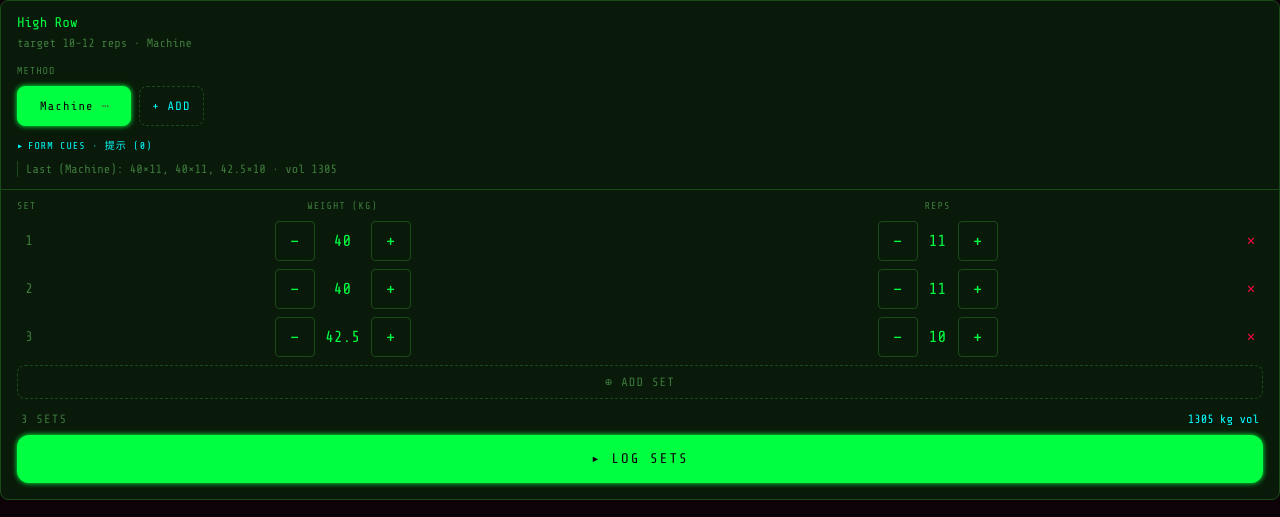
Test: SetBySetCard › edits only the targeted set's weight
The image size is (1280, 517).
Click the button named "set 1 increase weight".
click(390, 241)  # box left=370, top=221, right=410, bottom=261
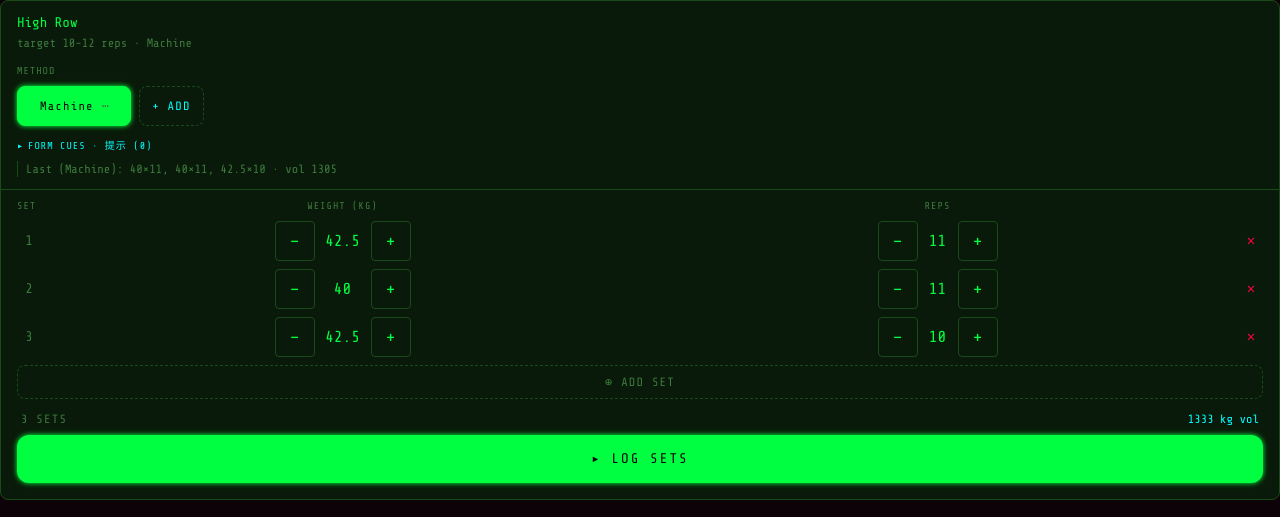
Expected: the button with test id "set-row-7-1-weight" reads "40", left=318, top=269, right=366, bottom=309
Result: the button with test id "set-row-7-0-weight" reads "42.5" at left=318, top=221, right=366, bottom=261
